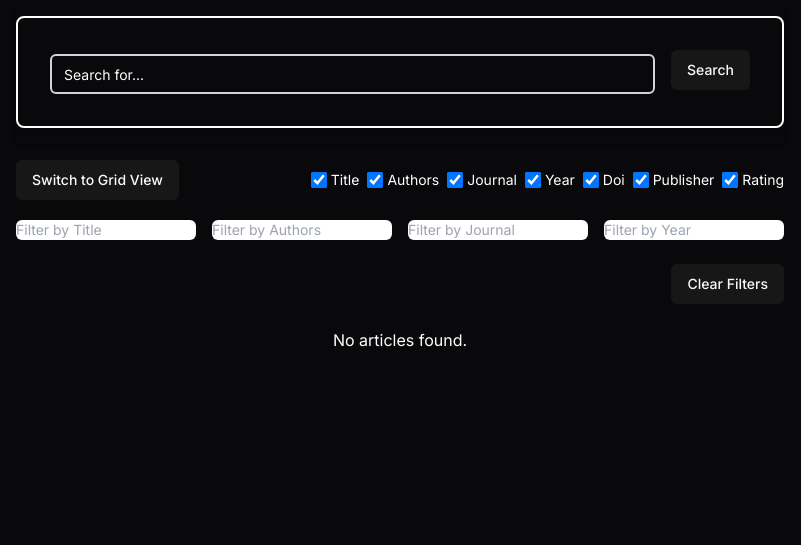
Test: SearchPage › applies filters to the displayed articles
Note: Submit search
Type "test" into the field with placeholder "Search for..." at coordinates (352, 74), box [50,54,655,94]
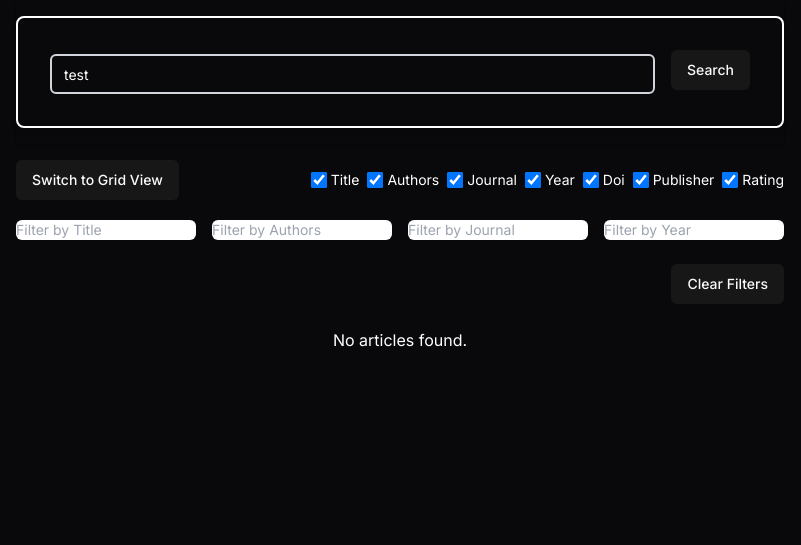
Click the button "Search" at coordinates (710, 70), box [671,50,750,90]
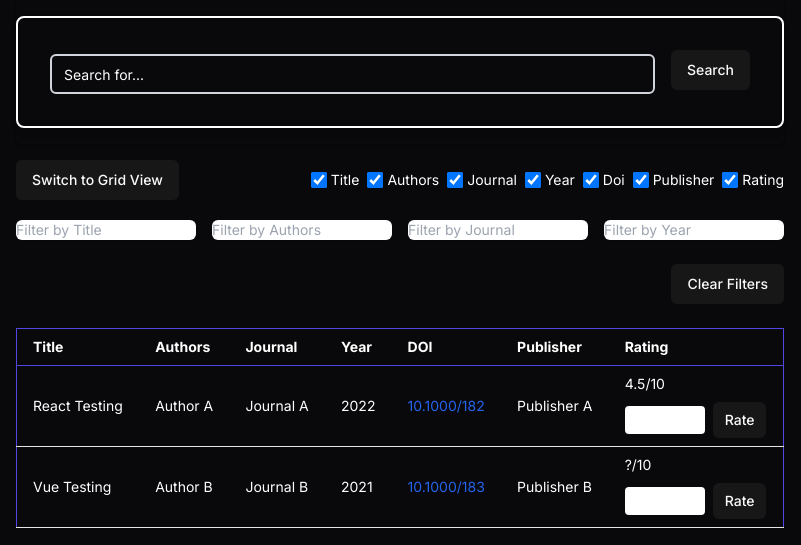
expect the text "React Testing" is shown: met, box [16,366,139,446]
expect the text "Vue Testing" is shown: met, box [16,446,139,528]
Note: Apply title filter
Type "react" into the field with placeholder "Filter by Title" at coordinates (106, 230), box [16,220,196,240]
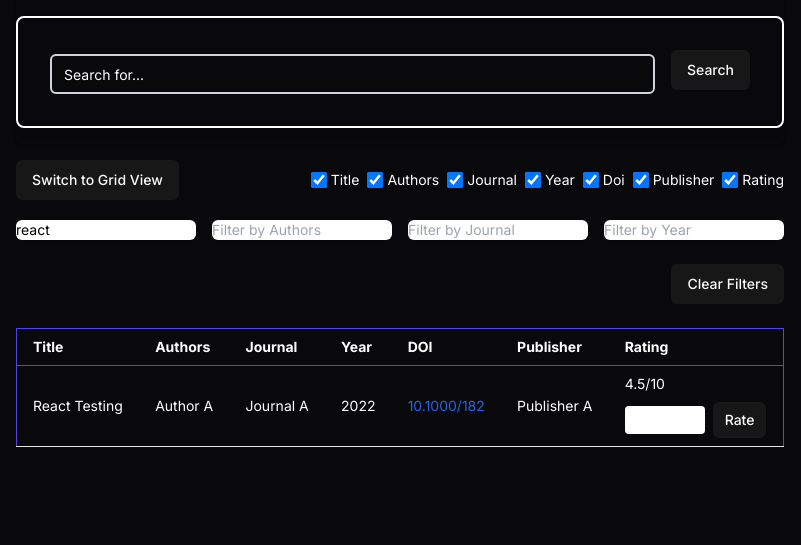
expect the text "React Testing" is shown: met, box [16,366,139,446]
expect the text "Vue Testing" is gone: met
Note: Clear filters
Click the button "Clear Filters" at coordinates (728, 284), box [671,264,784,304]
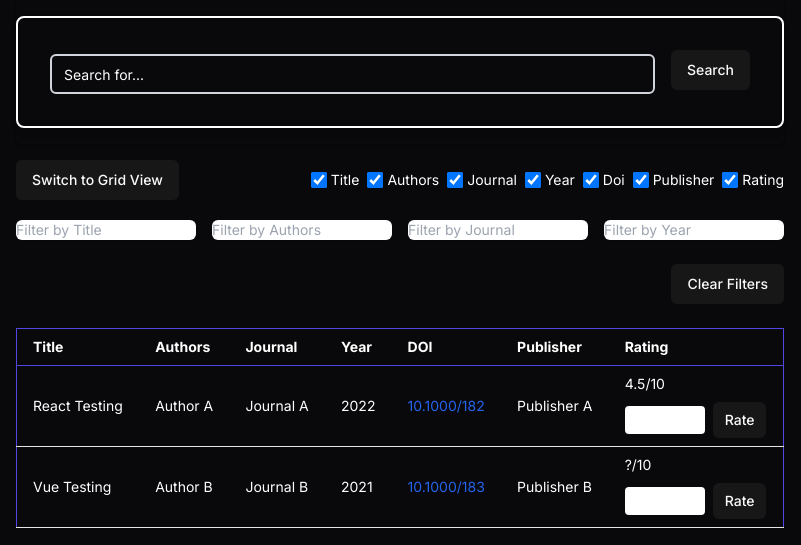
expect the text "React Testing" is shown: met, box [16,366,139,446]
expect the text "Vue Testing" is shown: met, box [16,446,139,528]
